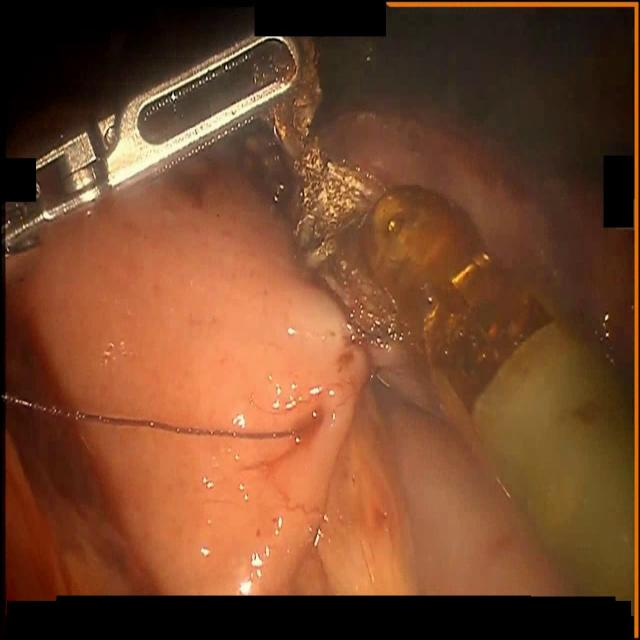surgical-area: (1, 4, 637, 605)
surgical-tool: (360, 183, 638, 606), (2, 33, 304, 260)
